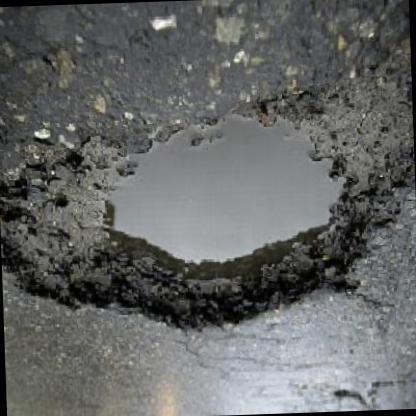pothole: (0, 70, 414, 332)
